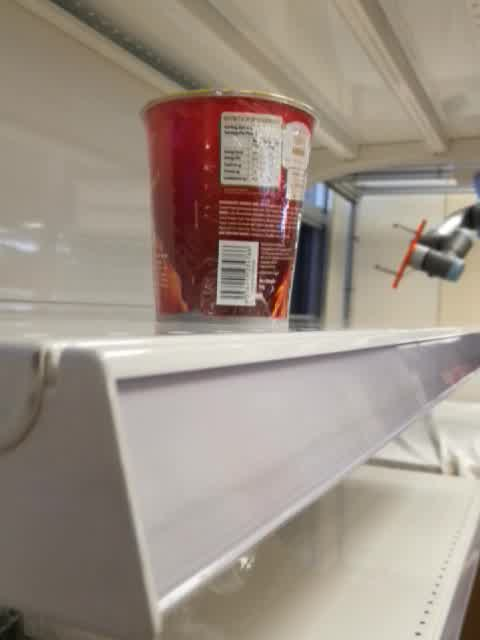maggi: (138, 86, 321, 334)
